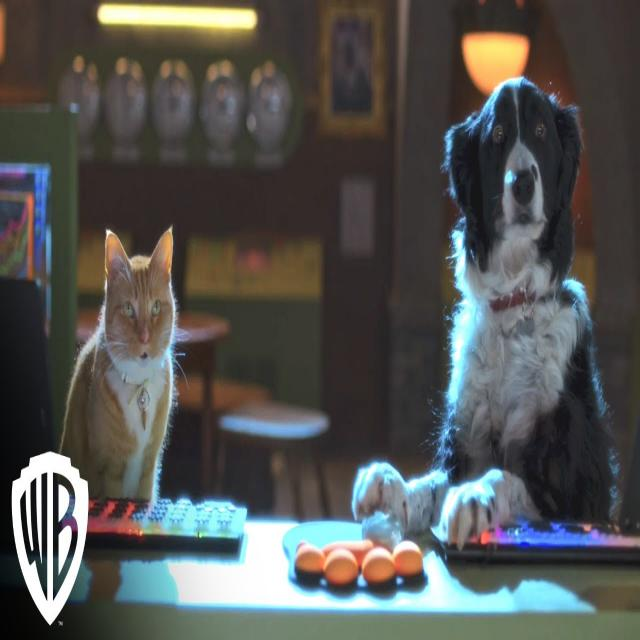cat: (51, 207, 182, 514)
dog: (348, 62, 624, 549)
